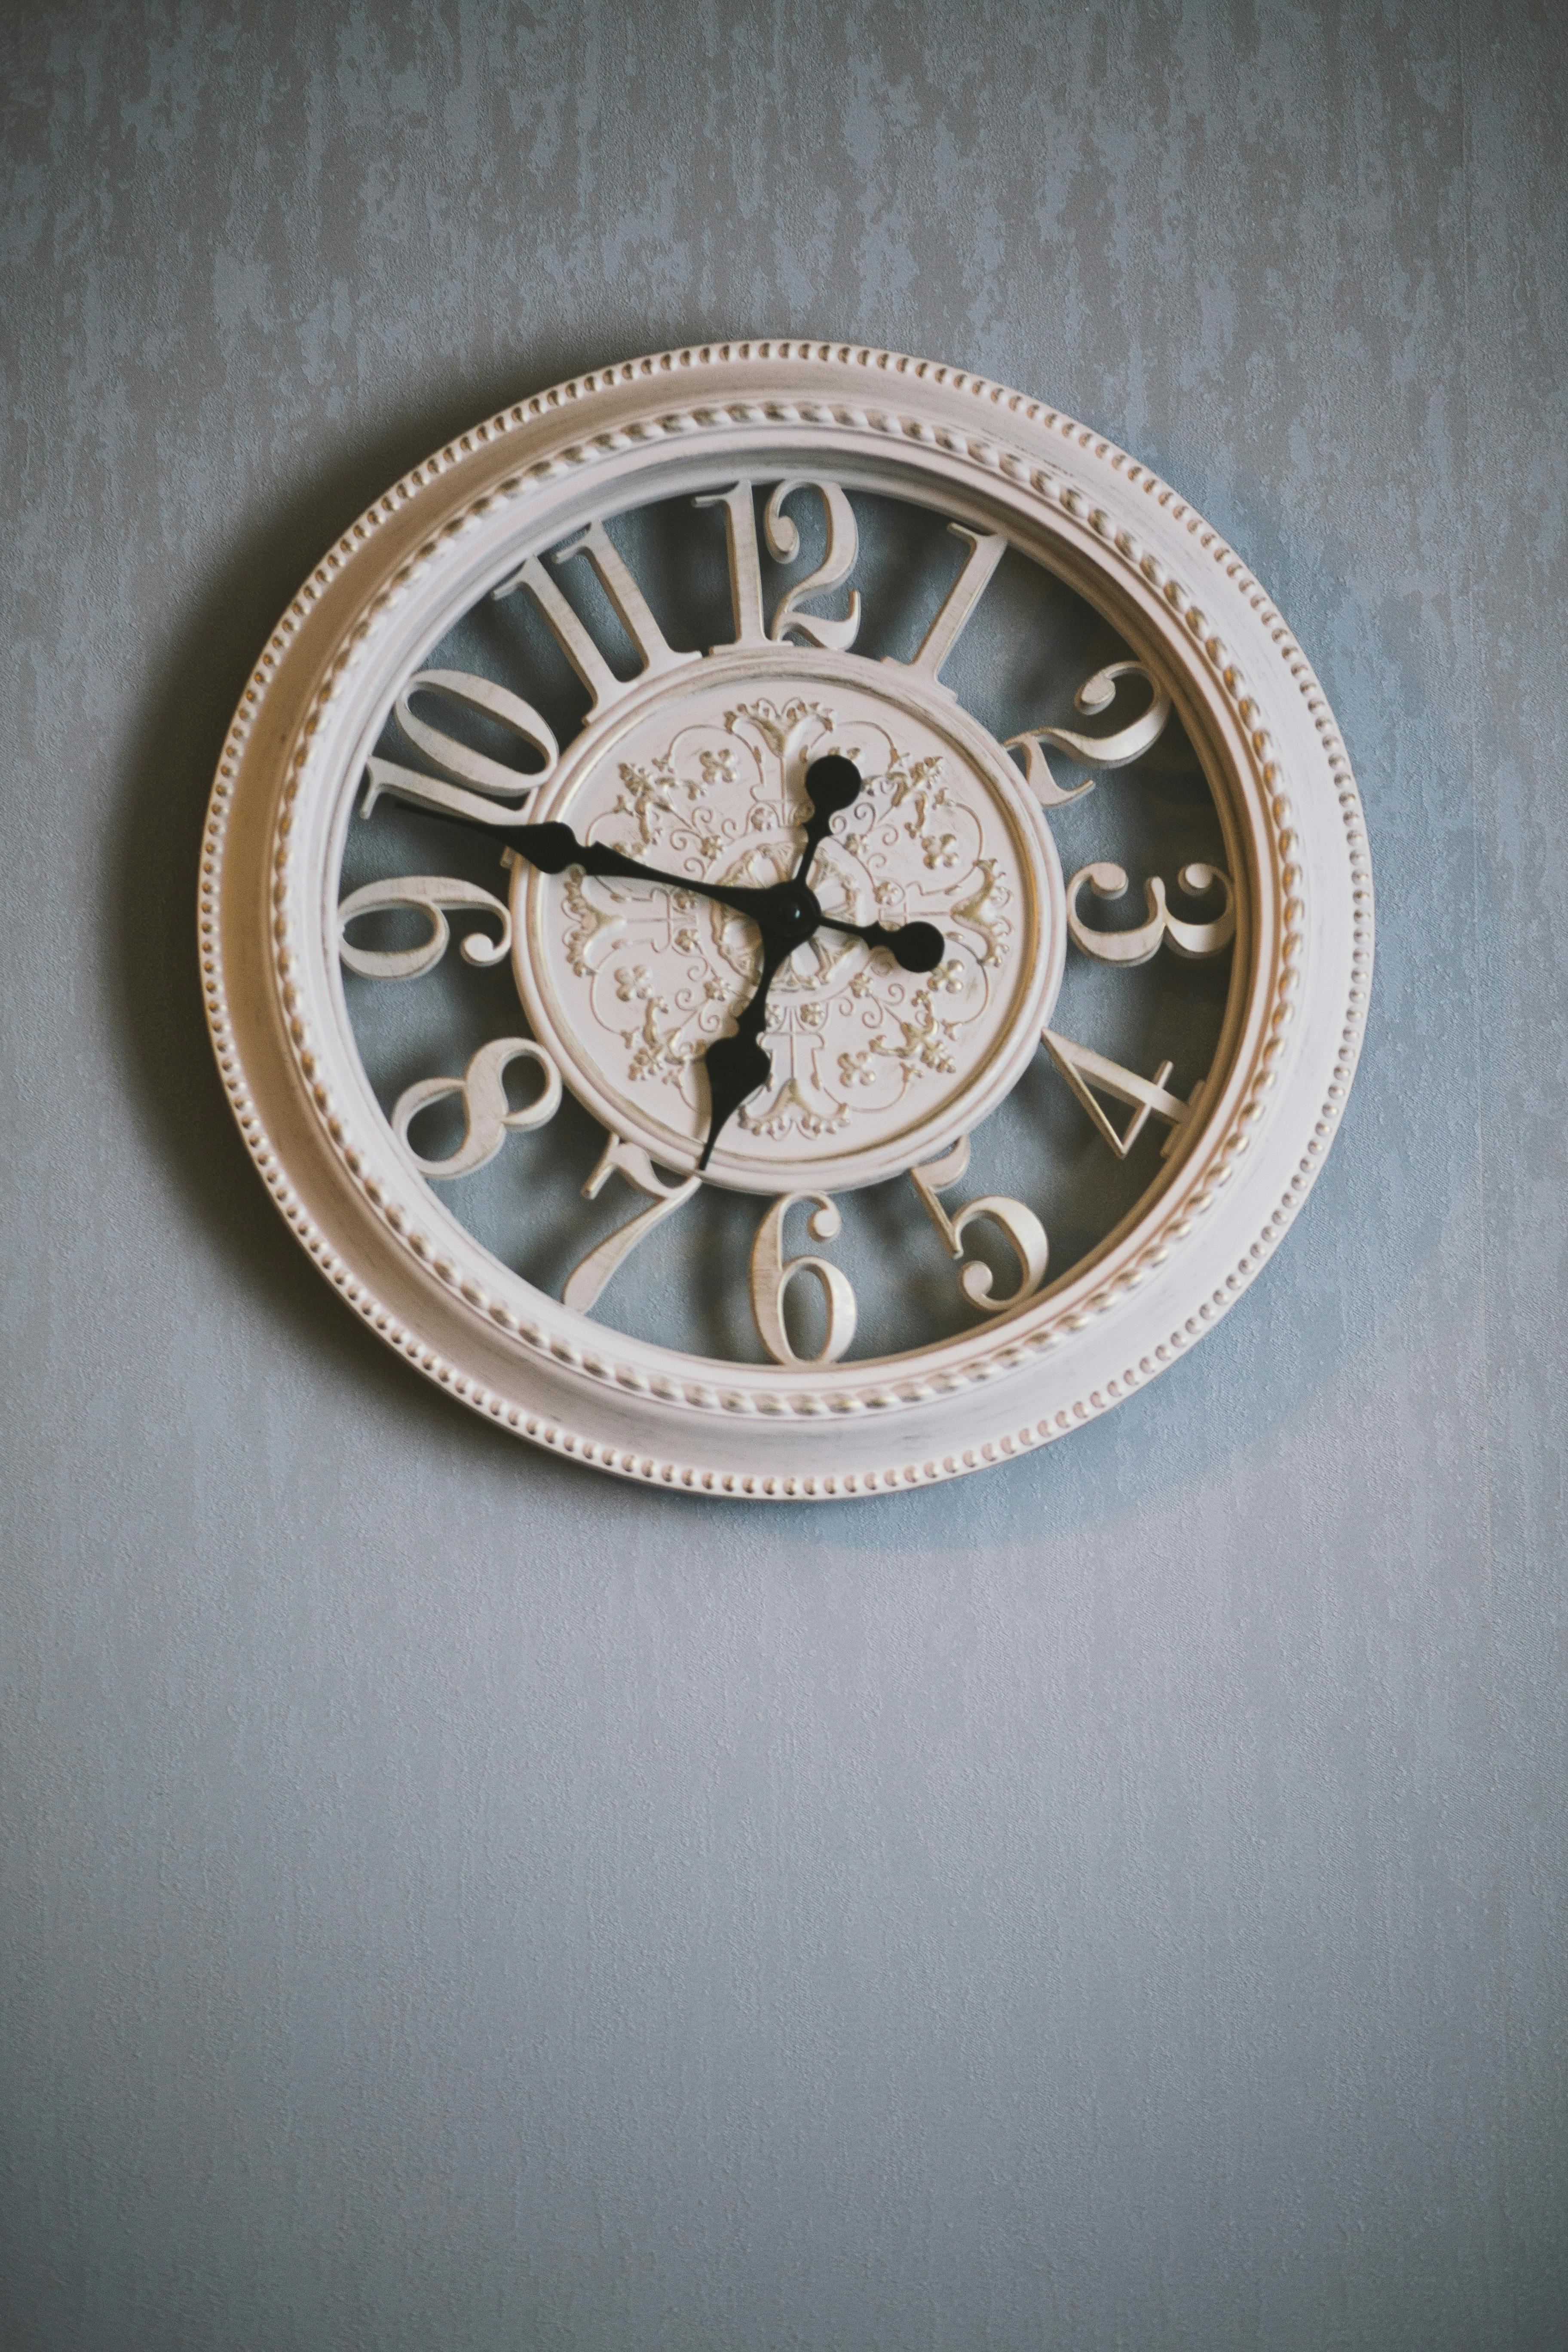clock: (173, 220, 1491, 1641)
